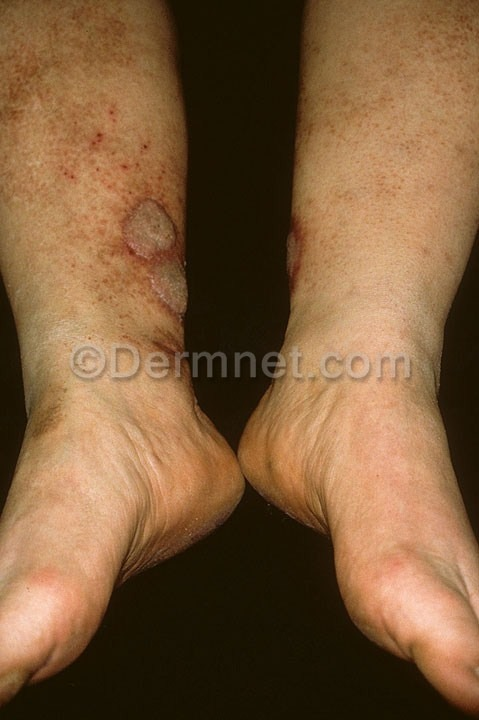Psoriasis: (108, 190, 191, 343), (280, 213, 307, 288)
